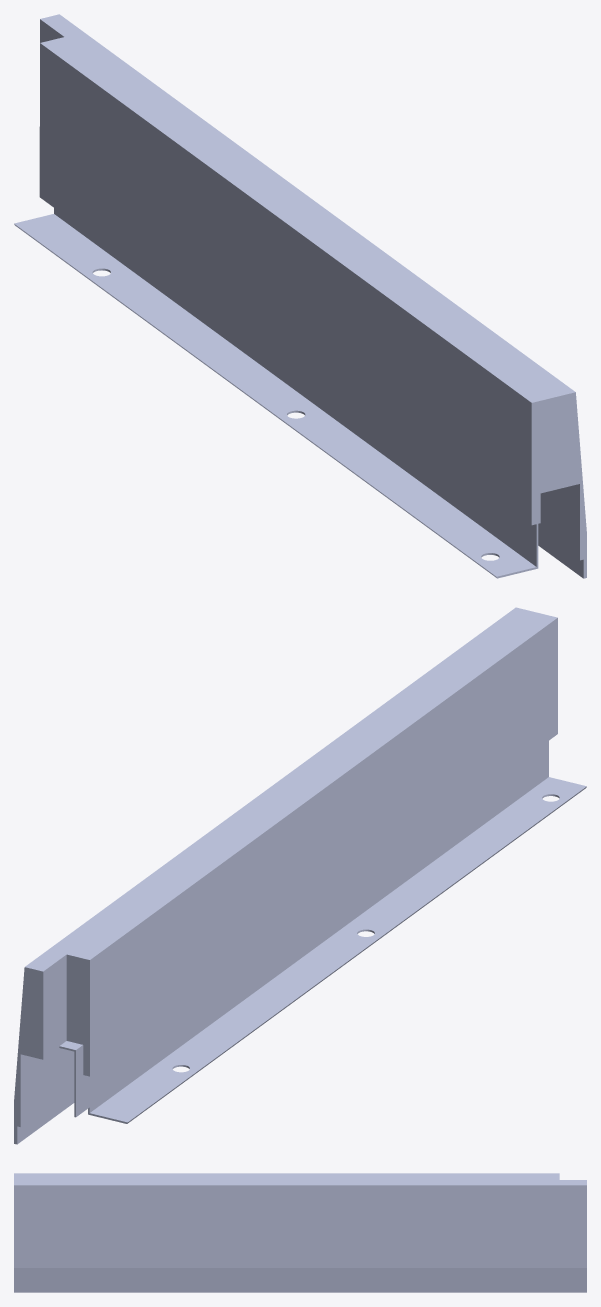
File: mv-kava-N350-m.glb
The picture shows the model from 3 angles, top to bottom: view 1: azimuth 30°, elevation 25°; view 2: azimuth 150°, elevation 25°; view 3: azimuth 270°, elevation 25°; orthographic projection. The views are drawn at different scales.
Parts seen in each view (by area): view 1: 49536774; view 2: 49536774; view 3: 49536774.
Part boxes in pixels (x1=…): 49536774: x1=14, y1=14, x2=586, y2=578; 49536774: x1=14, y1=607, x2=586, y2=1144; 49536774: x1=14, y1=1173, x2=586, y2=1292.
Bounding box in the file's own units: 0.0335 × 0.0685 × 0.3402.
